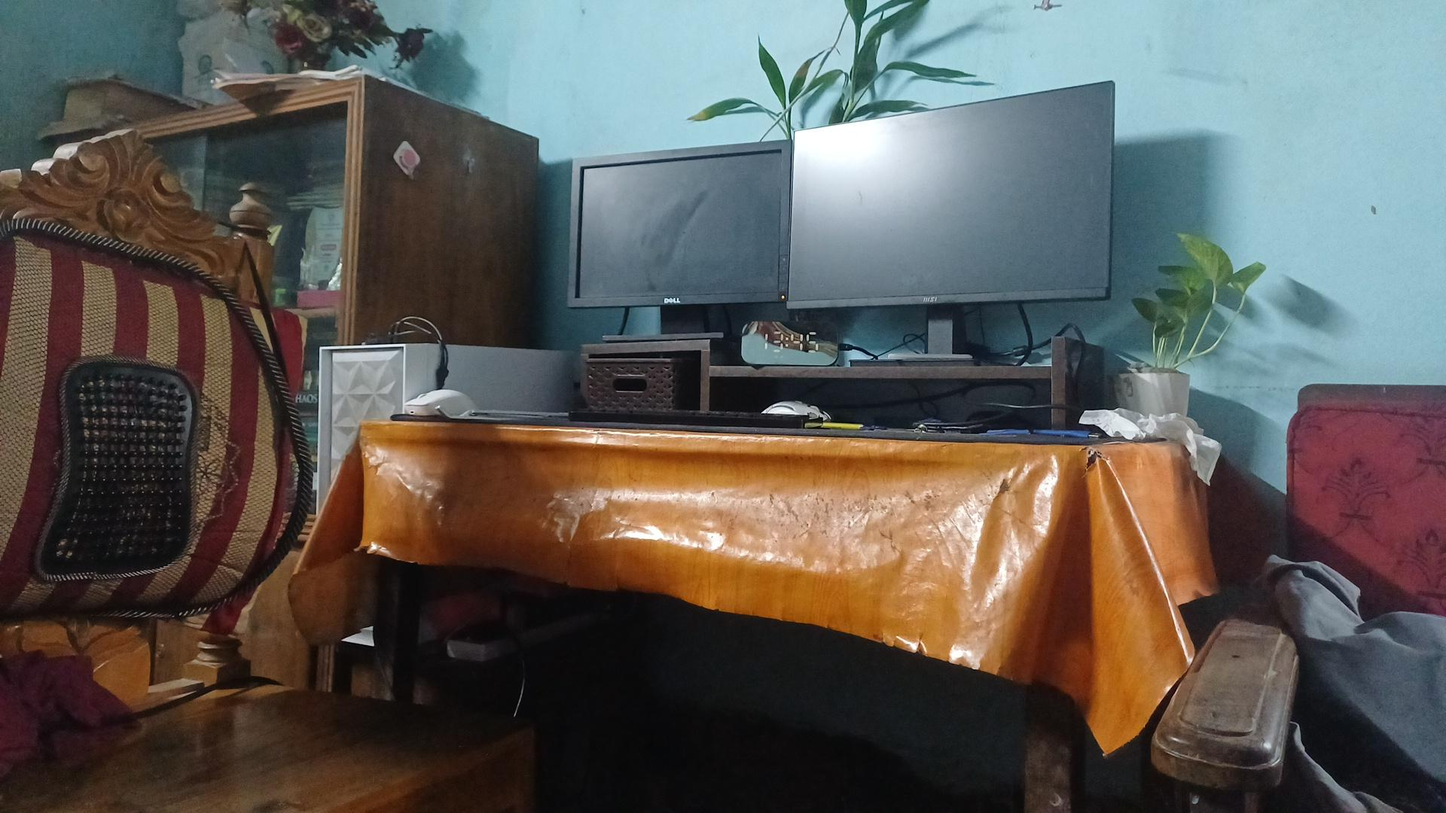Chair: (8, 121, 406, 790)
Clock: (729, 314, 839, 381)
Monitor: (791, 94, 1143, 322), (550, 137, 799, 325)
Mouse: (399, 372, 469, 417)
Plant: (1124, 234, 1256, 461)
